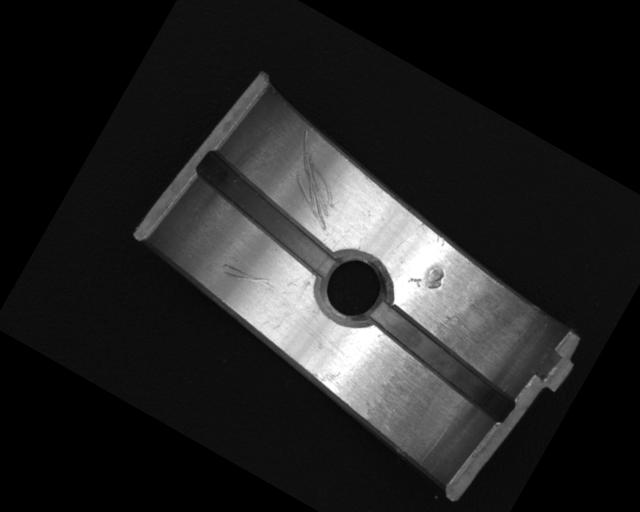bruise: (407, 255, 450, 297)
gap: (180, 149, 352, 279), (357, 302, 525, 425)
hole: (305, 238, 404, 339)
nick: (266, 131, 362, 232), (217, 254, 274, 299)
